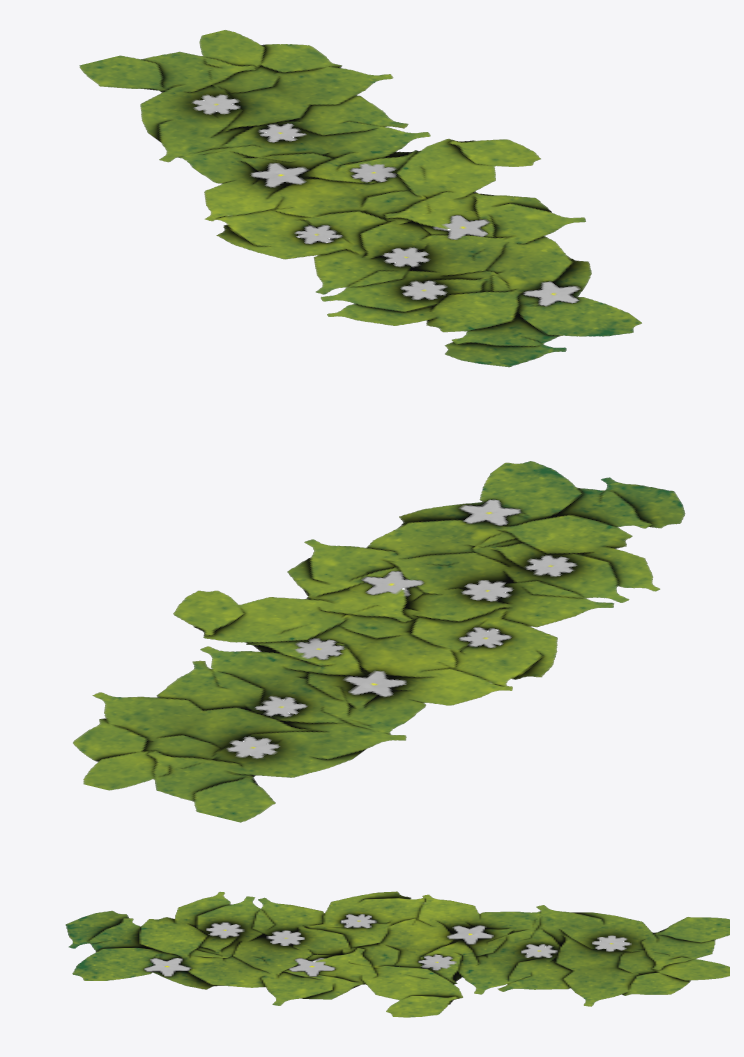
The model's file is Flowers_Bush_03.fbx.
The picture shows the model from 3 angles, top to bottom: view 1: azimuth 30°, elevation 25°; view 2: azimuth 150°, elevation 25°; view 3: azimuth 270°, elevation 25°; orthographic projection. The views are drawn at different scales.
Parts seen in each view (by area): view 1: Flowers_Bush_03; view 2: Flowers_Bush_03; view 3: Flowers_Bush_03.
Boxes of the visible parts, <box> form: Flowers_Bush_03: <box>79,30,641,367</box>; Flowers_Bush_03: <box>73,461,685,822</box>; Flowers_Bush_03: <box>65,891,729,1017</box>.
Bounding box in the file's own units: 1.73 × 1.19e-09 × 2.99.
